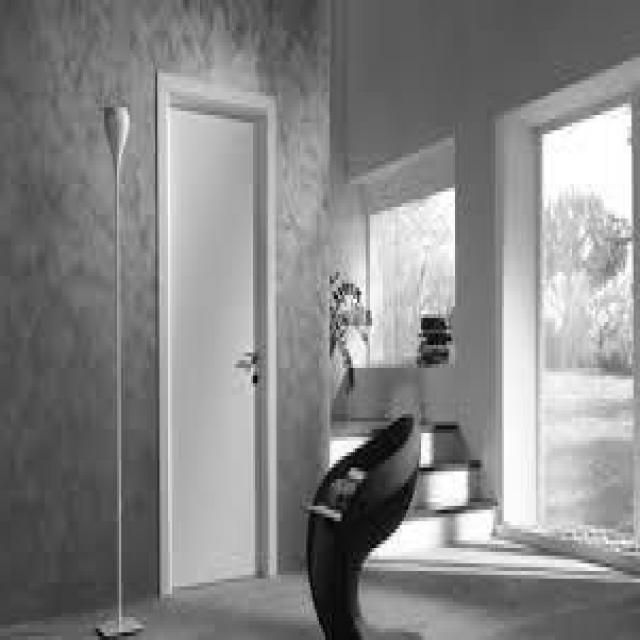door: (148, 55, 288, 599)
